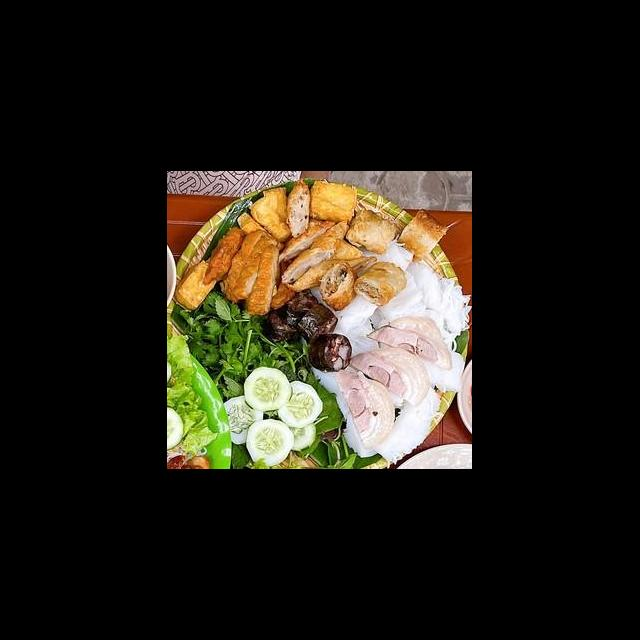bun: (332, 235, 472, 363), (372, 383, 448, 464), (420, 346, 468, 397)
bun dau: (168, 192, 464, 465)
cha com: (192, 222, 284, 319), (276, 214, 374, 298), (284, 177, 316, 240)
cha gio: (394, 206, 452, 266), (341, 206, 404, 257), (352, 257, 411, 310)
dau hu: (234, 182, 298, 248), (170, 257, 220, 314), (304, 177, 362, 226)
doi sun: (262, 284, 356, 376)
thit heo: (328, 362, 404, 457), (344, 342, 438, 410), (366, 312, 456, 377)
